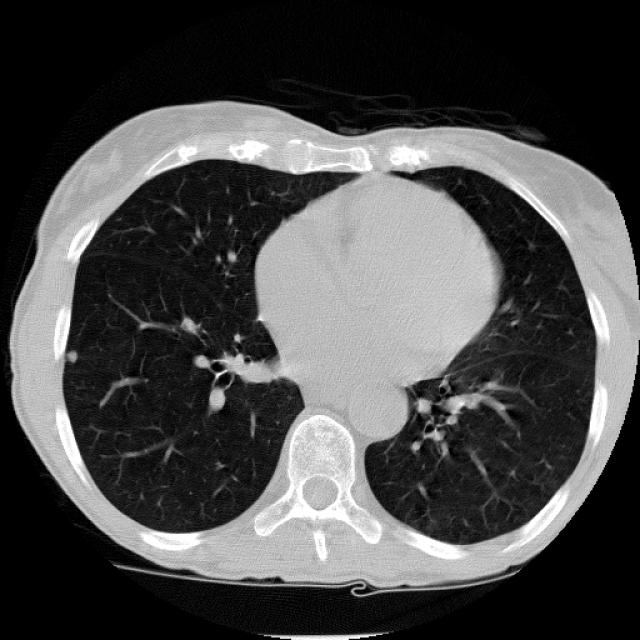nodule: (57, 342, 85, 370)
